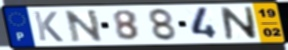4: (189, 6, 223, 42)
8: (147, 7, 178, 42), (112, 9, 142, 42)
K: (31, 10, 66, 43)
N: (62, 9, 105, 44), (219, 6, 260, 41)
